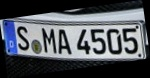character: (41, 26, 57, 54), (90, 28, 106, 54), (106, 28, 122, 54), (122, 27, 138, 53), (58, 28, 73, 54), (76, 28, 91, 54), (16, 25, 30, 50)
